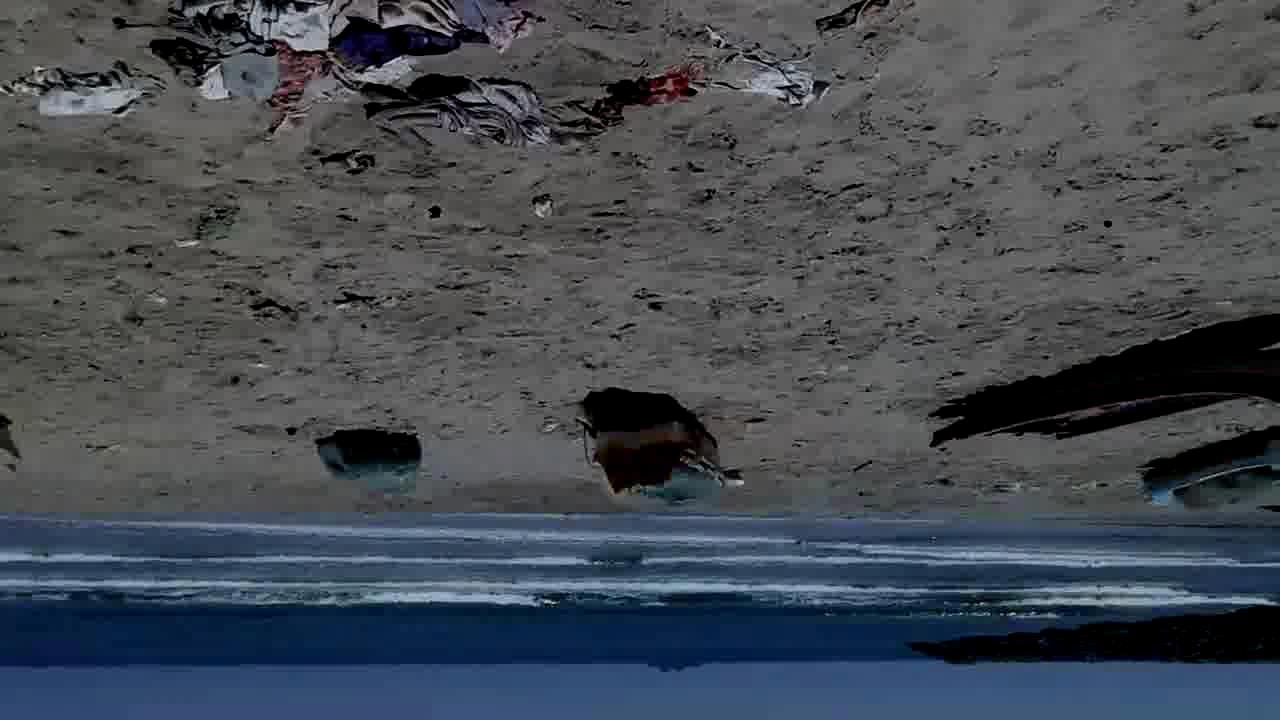large collection of objects: (927, 325, 1276, 456), (586, 396, 727, 510), (1143, 428, 1279, 521), (310, 428, 426, 480)
obj: (102, 3, 558, 158), (597, 19, 832, 109), (217, 276, 400, 328), (13, 63, 164, 123), (811, 4, 896, 44), (532, 192, 558, 223)
sand/background: (0, 503, 1280, 719)
